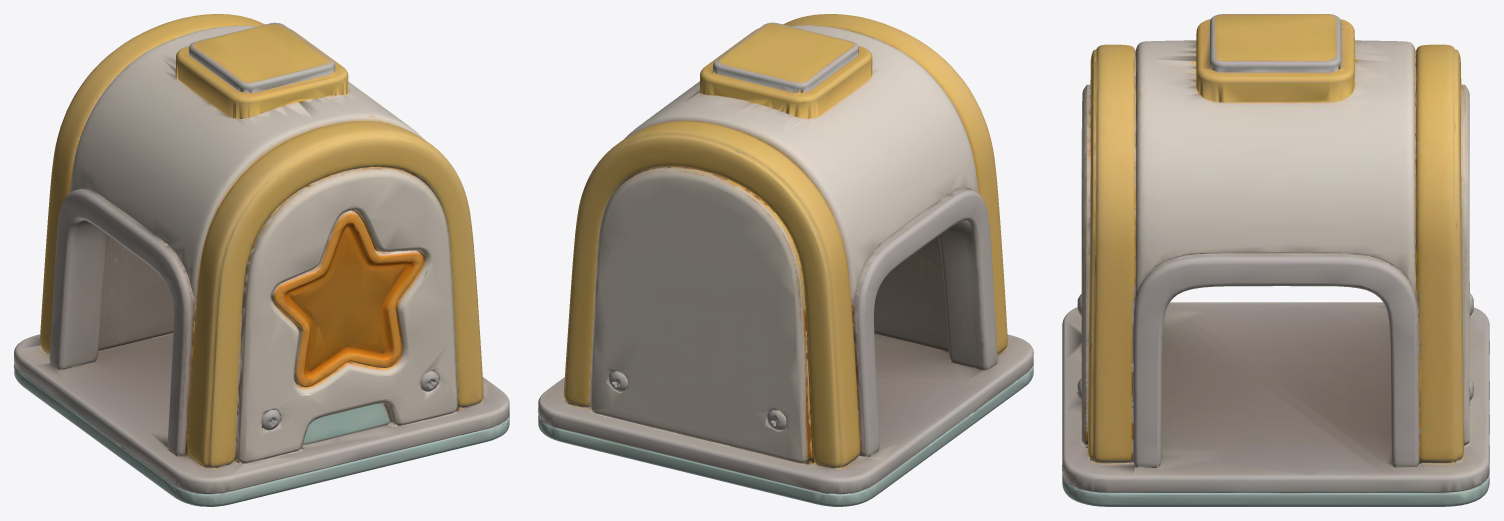
File: star-press-housing.glb
3 renders of one model, left to right at view 1: azimuth 30°, elevation 25°; view 2: azimuth 150°, elevation 25°; view 3: azimuth 270°, elevation 25°, orthographic. The views are drawn at different scales.
Parts seen in each view (by area): view 1: star-press-housing; view 2: star-press-housing; view 3: star-press-housing.
Boxes of the visible parts, box(x1,y1,x2,y2) form: star-press-housing: box(14, 14, 509, 506); star-press-housing: box(538, 14, 1033, 506); star-press-housing: box(1062, 14, 1489, 506).
Bounding box in the file's own units: 1.09 × 1.11 × 1.12.
Materials: 1 (1 with a texture image).
